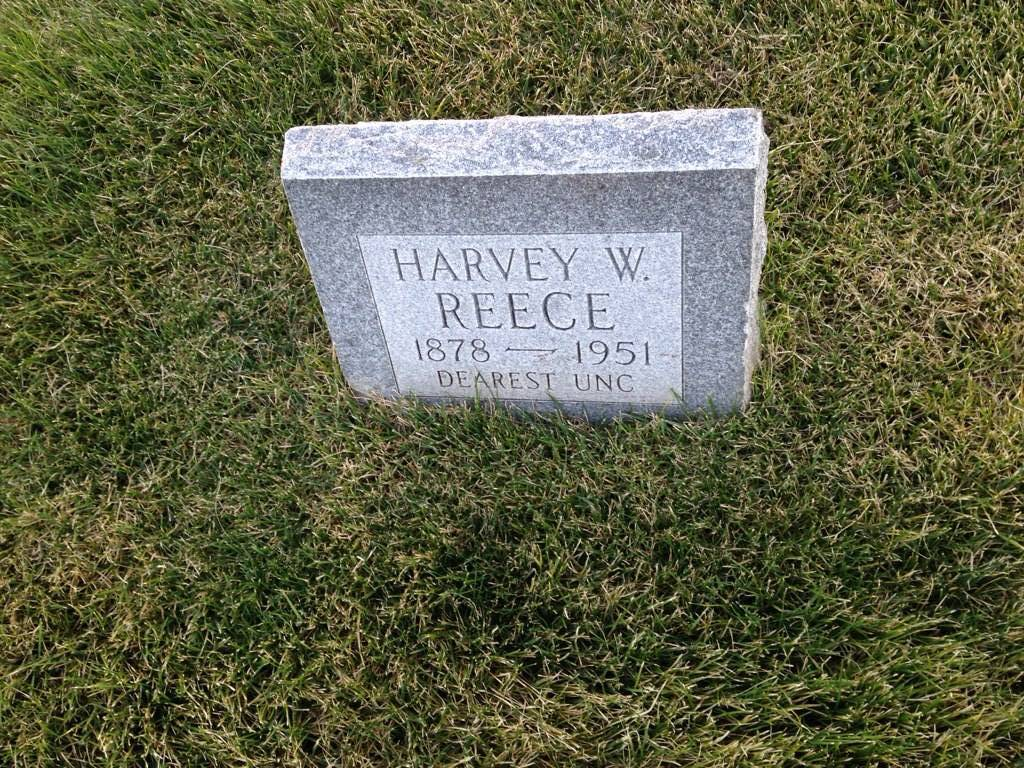upright: (268, 109, 775, 422)
